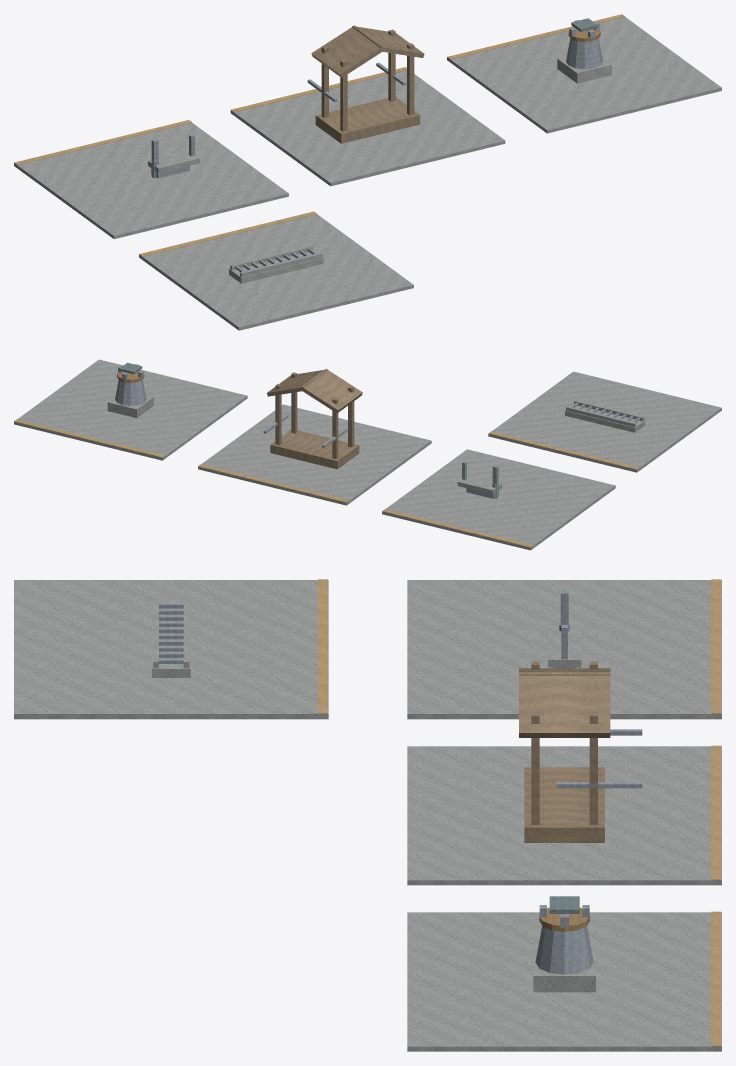
File: level_blockout_kit_wld_14_p06.glb
3 renders of one model, top to bottom at view 1: azimuth 30°, elevation 25°; view 2: azimuth 150°, elevation 25°; view 3: azimuth 270°, elevation 25°, orthographic. The views are drawn at different scales.
Parts seen in each view (by area): view 1: level_blockout_kit_wld_14_p06; view 2: level_blockout_kit_wld_14_p06; view 3: level_blockout_kit_wld_14_p06.
Part boxes in pixels (x1=…): level_blockout_kit_wld_14_p06: x1=14, y1=14, x2=721, y2=330; level_blockout_kit_wld_14_p06: x1=14, y1=359, x2=721, y2=550; level_blockout_kit_wld_14_p06: x1=14, y1=579, x2=721, y2=1051.
Size of the model in its own units: 19.65 by 2.85 by 12.6.
7 materials, 7 textured.
